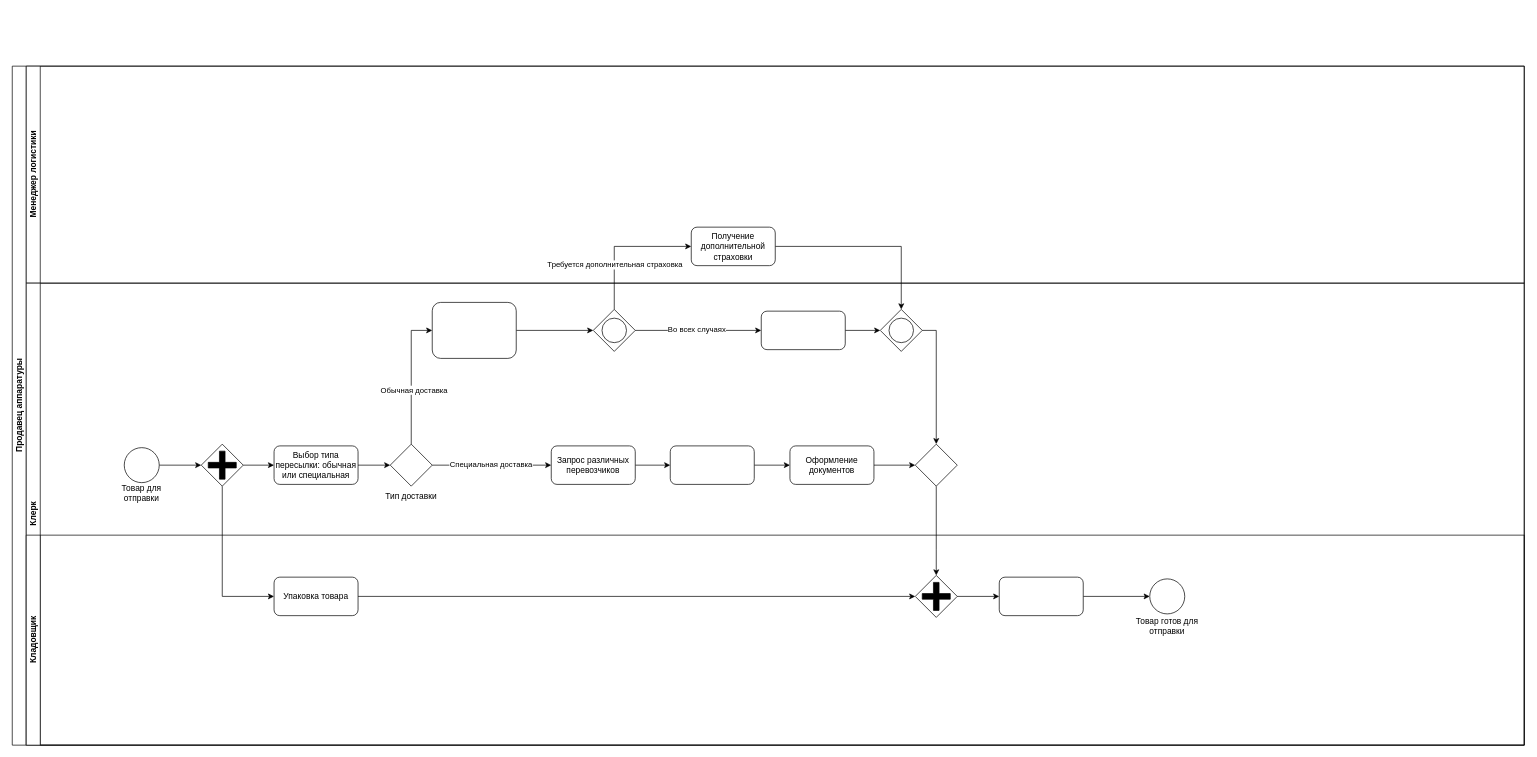
The diagram is 1537 pixels wide and 757 high, and some of its shapes have lost their labels. The centre of each missing label's shape, as x and y in pixels:
Выбор перевозчика: (x=712, y=464)
Заполнение почтового ярлыка: (x=803, y=330)
Прикрепить документы и переместить в зону отправки: (x=1041, y=596)
Проверка необходимости дополнительной страховки: (x=474, y=330)
